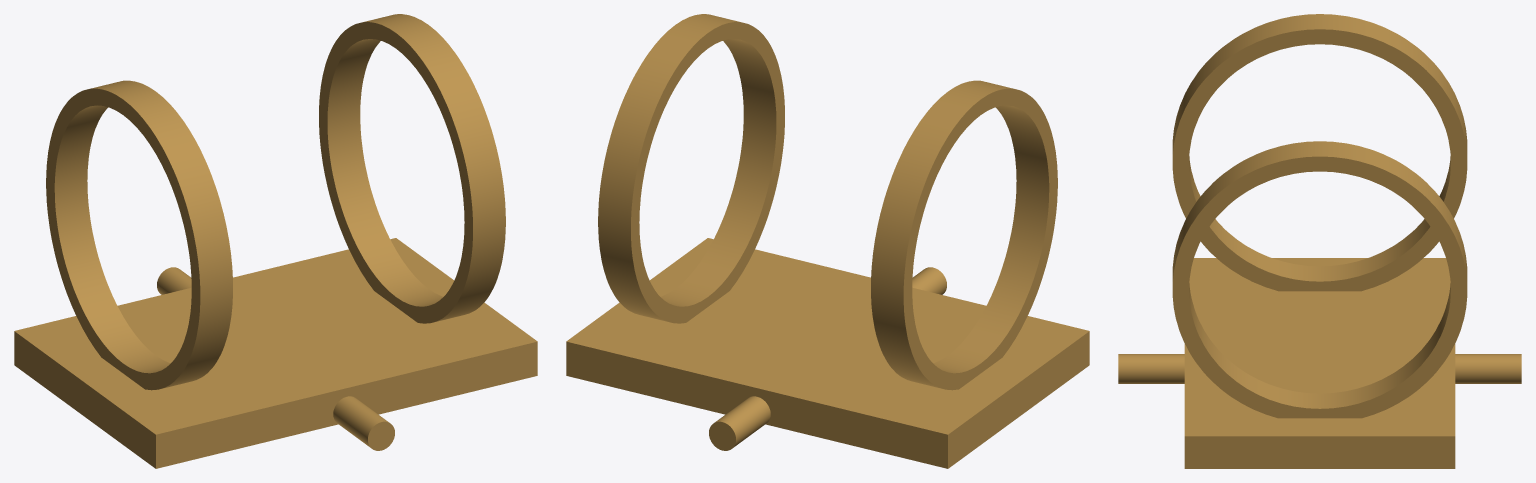
The model's file is telescope_cradle.glb.
The picture shows the model from 3 angles, left to right: view 1: azimuth 30°, elevation 25°; view 2: azimuth 150°, elevation 25°; view 3: azimuth 270°, elevation 25°; orthographic projection. The views are drawn at different scales.
Visible parts, largest first — view 1: telescope_cradle; view 2: telescope_cradle; view 3: telescope_cradle.
Boxes of the visible parts, left/top/right/bottom form: telescope_cradle: left=14, top=14, right=537, bottom=468; telescope_cradle: left=566, top=14, right=1089, bottom=468; telescope_cradle: left=1118, top=14, right=1521, bottom=468.
Size of the model in its own units: 0.14 by 0.109 by 0.134.
